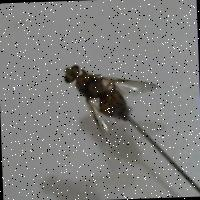Oriental-fruit-fly: (50, 46, 164, 150)
